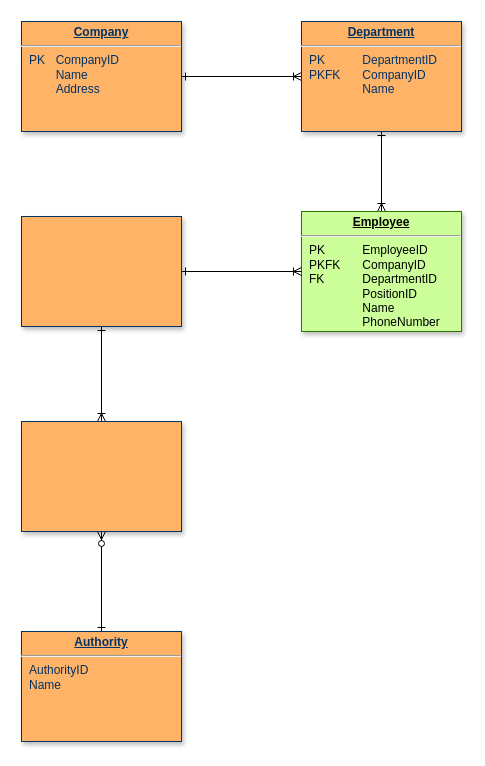
Image size: 485x766. Some labels were removed from this diagram. Here are the shapes that lost their labels. From the top down, the centre of each, then its label:
point 102,273: Position PositionID Name
point 102,477: PositionAuthority PositionID AuthorityID
